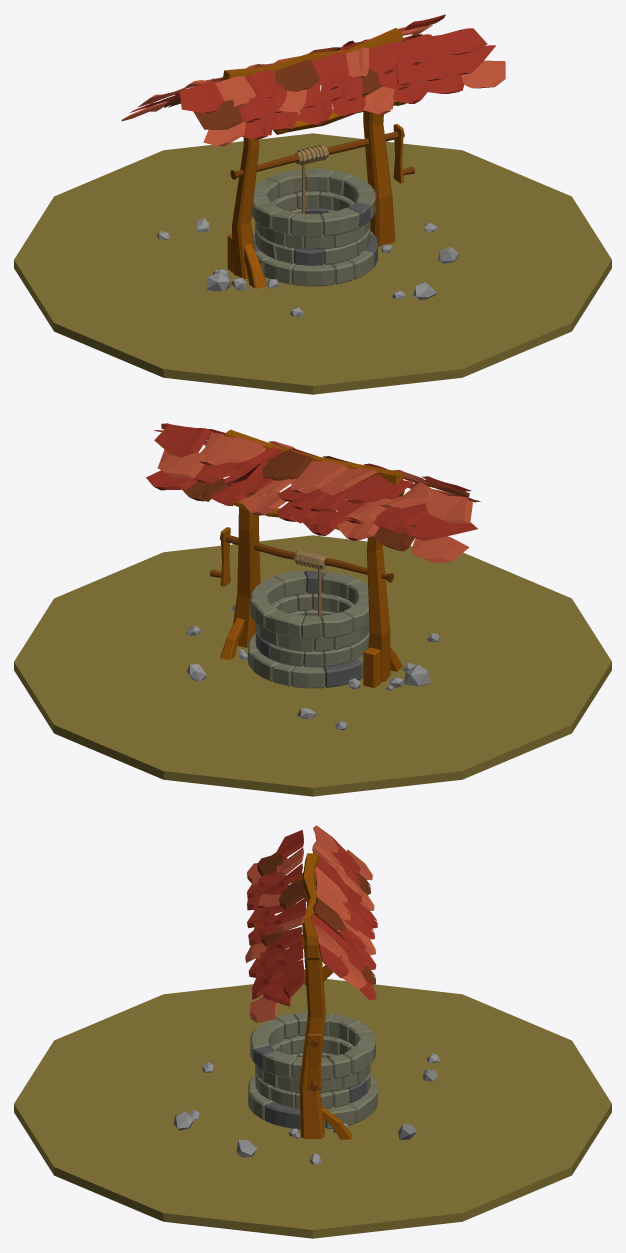
The model's file is well.glb.
3 views of the same model, one above another, from view 1: azimuth 30°, elevation 25°; view 2: azimuth 150°, elevation 25°; view 3: azimuth 270°, elevation 25° (orthographic).
Visible parts, largest first — view 1: Cylinder.003, Plane.031, Cube.004, Cube, Cube.001, Cube.003, Cube.005, Cube.002, Plane.001, Cube.006, Cylinder, Main Block.003 (+1 smaller); view 2: Cylinder.003, Plane.001, Cube.004, Cube.003, Cube, Cube.001, Cube.005, Cube.002, Plane.031, Cube.006, Cylinder, Main Block.005 (+3 smaller); view 3: Cylinder.003, Plane.031, Plane.001, Cube.004, Cube.001, Cube, Cube.003, Cube.002, Cube.006, Main Block.
Boxes of the visible parts, x1,y1,x2,y2 form: Cylinder.003: (14, 133, 611, 394); Plane.031: (179, 28, 505, 146); Cube.004: (251, 168, 375, 236); Cube: (252, 231, 377, 286); Cube.001: (363, 111, 395, 246); Cube.003: (255, 191, 370, 249); Cube.005: (231, 137, 259, 278); Cube.002: (255, 207, 370, 265); Plane.001: (121, 14, 445, 121); Cube.006: (222, 28, 403, 80); Cylinder: (230, 131, 414, 179); Main Block.003: (244, 243, 266, 288); Cylinder.003: (14, 535, 611, 796); Plane.001: (146, 424, 477, 563); Cube.004: (250, 570, 369, 638); Cube.003: (255, 592, 369, 651); Cube: (248, 633, 363, 688); Cube.001: (233, 493, 260, 647); Cube.005: (367, 536, 390, 681); Cube.002: (255, 609, 369, 667); Plane.031: (154, 423, 480, 502); Cube.006: (224, 429, 403, 495); Cylinder: (210, 535, 393, 582); Main Block.005: (363, 647, 380, 687); Cylinder.003: (14, 979, 611, 1238); Plane.031: (245, 830, 306, 1023); Plane.001: (311, 825, 377, 1000); Cube.004: (250, 1012, 375, 1080); Cube.001: (299, 955, 325, 1138); Cube: (248, 1075, 378, 1129); Cube.003: (255, 1035, 370, 1093); Cube.002: (255, 1052, 370, 1108); Cube.006: (302, 853, 320, 960); Main Block: (307, 1033, 321, 1089).
Bounding box in the file's own units: 62.49 × 25.25 × 62.49.
